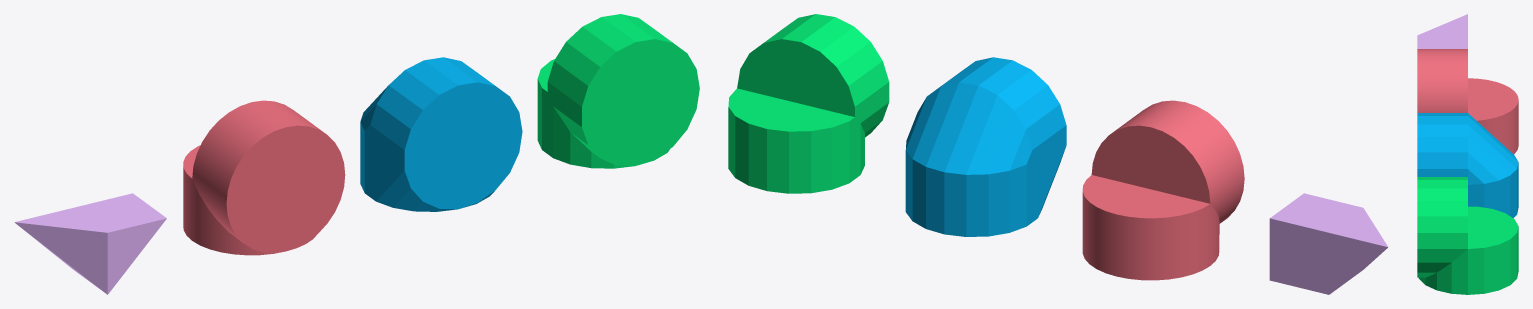
The model's file is hull.glb.
3 views of the same model, side by side, from view 1: azimuth 30°, elevation 25°; view 2: azimuth 150°, elevation 25°; view 3: azimuth 270°, elevation 25° (orthographic). The views are drawn at different scales.
Parts seen in each view (by area): view 1: COMPOUND; view 2: COMPOUND; view 3: COMPOUND.
Boxes of the visible parts, x1,y1,x2,y2 form: COMPOUND: (14, 14, 699, 294); COMPOUND: (728, 14, 1388, 294); COMPOUND: (1417, 14, 1518, 294).
Size of the model in its own units: 0.011 by 0.002 by 0.002.
